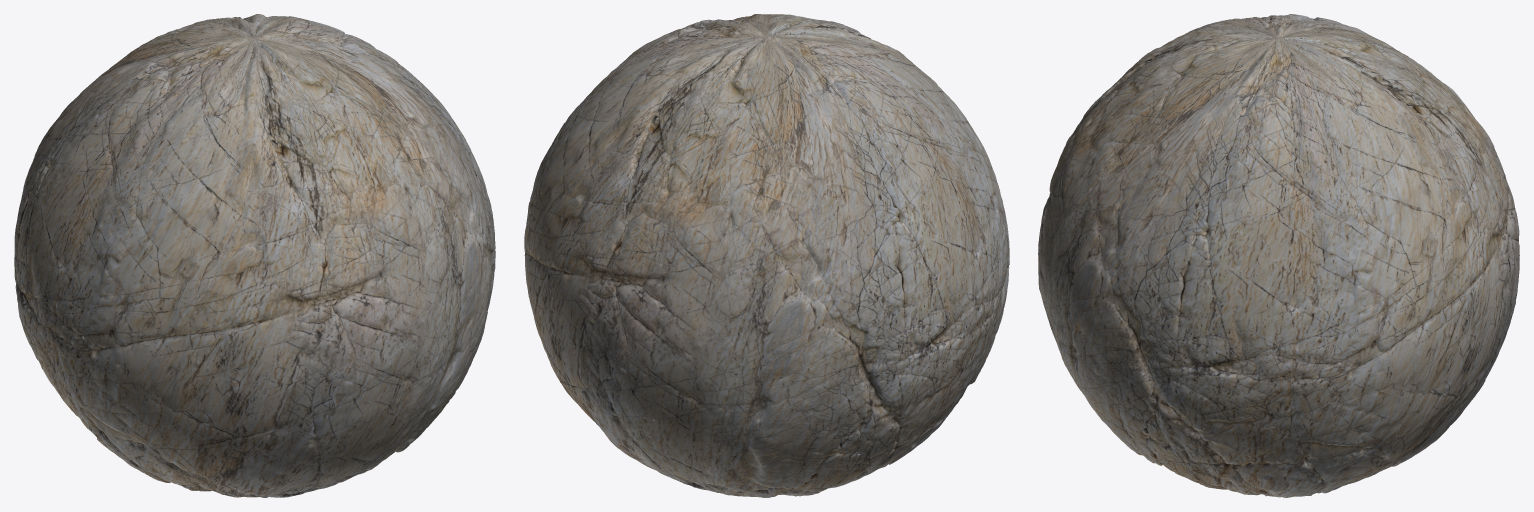
The model's file is marble_cliff_05_4k.gltf.
3 views of the same model, side by side, from view 1: azimuth 30°, elevation 25°; view 2: azimuth 150°, elevation 25°; view 3: azimuth 270°, elevation 25° (orthographic).
Visible parts, largest first — view 1: sphere_gltf; view 2: sphere_gltf; view 3: sphere_gltf.
Part boxes in pixels (<box>): sphere_gltf: <box>14,14,495,497</box>; sphere_gltf: <box>524,14,1009,497</box>; sphere_gltf: <box>1038,14,1519,497</box>.
Bounding box in the file's own units: 20.02 × 20.15 × 20.03.
Materials: 1 (1 with a texture image).
